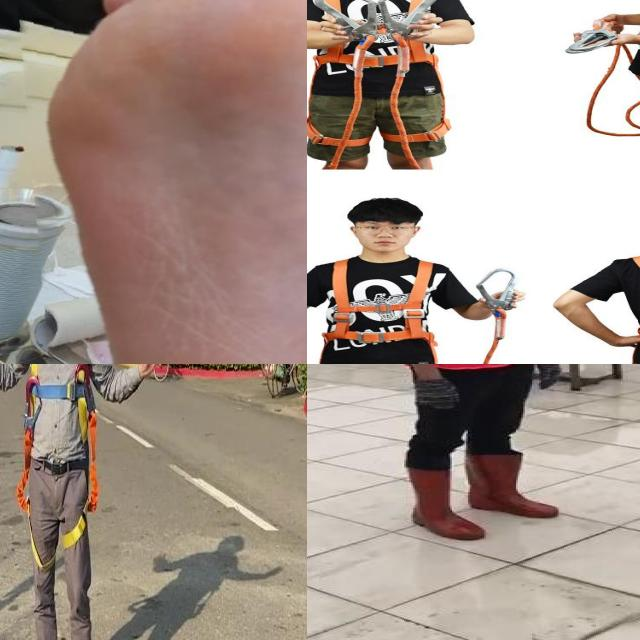Barefoots: (10, 0, 307, 364)
Harness: (17, 364, 100, 550), (307, 253, 440, 364)
boots: (462, 447, 576, 518), (398, 463, 486, 544)
hand_glove: (410, 379, 466, 413), (532, 364, 567, 388)
person: (365, 364, 580, 546)
